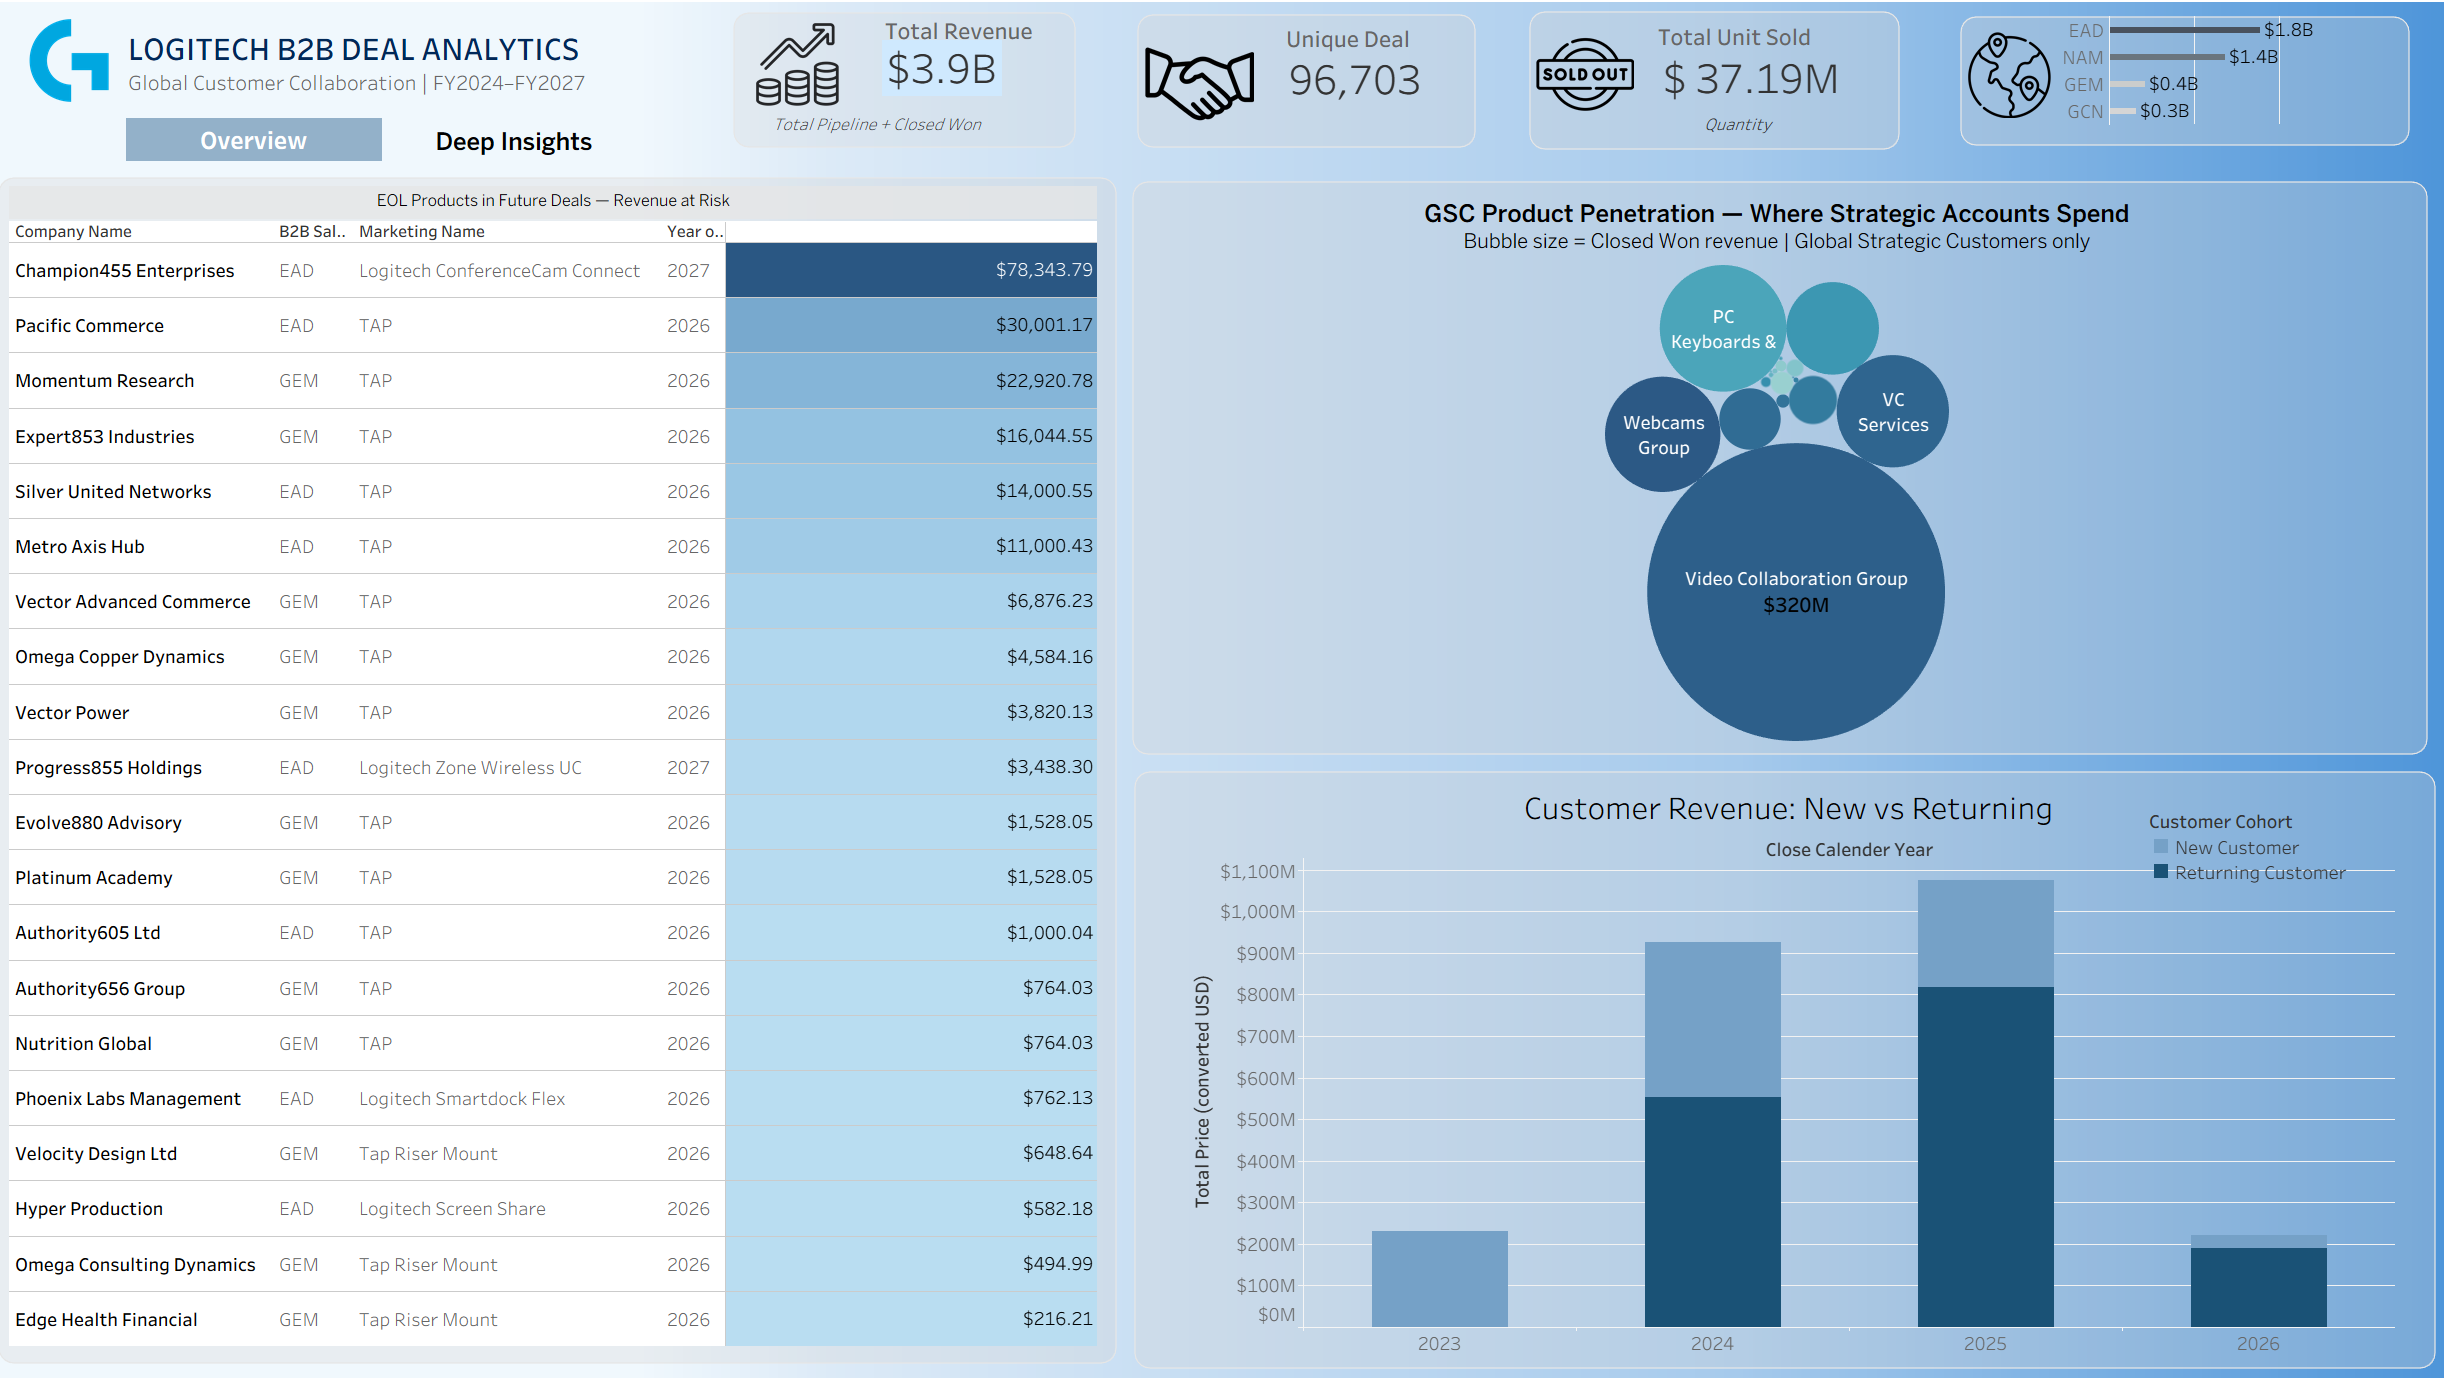

The page's visual inventory and layout, read from the dashboard file:
{"tool":"tableau","page":{"name":"Executive Overview","canvas":[1000,1000],"units":"permille","ordinal":1},"visuals":[{"type":"image","box":[3.1,5.7,993.7,988.5]},{"type":"worksheet","title":"Sheet 6 (7)","mark":"Automatic","box":[621.7,7.6,148.1,111.7]},{"type":"image","param":"C:/Users/Vishva/Downloads/Presentation1.png","box":[1,8.6,997.6,986.3]},{"type":"worksheet","title":"Sheet 6 (6)","mark":"Automatic","box":[468,10.1,134.8,108.3]},{"type":"text","box":[70.7,10.9,339.4,84]},{"type":"worksheet","title":"Sheet 6 (8)","mark":"Automatic","box":[786.4,11.8,179.4,105]},{"type":"worksheet","title":"Sheet 6 (5)","mark":"Automatic","box":[311.3,15.1,136.7,100.8]},{"type":"text","box":[373.5,16,74,26]},{"type":"text","box":[679.2,19.3,95.9,25.2]},{"type":"worksheet","title":"Top Region","mark":"Bar","rows":["B2B Sales Region"],"cols":["Total Price (converted USD)"],"box":[814.9,19.3,154.7,96.6]},{"type":"image","param":"C:/Users/Vishva/Downloads/logitech-gaming-2-logo-png-transparent.png","box":[32.8,21,32.8,76.4]},{"type":"text","box":[524,21,73.6,25.2]},{"type":"image","param":"C:/Users/Vishva/Downloads/files/profit.png","box":[319.4,21.8,40.3,63]},{"type":"image","param":"C:/Users/Vishva/Downloads/files/out-of-stock.png","box":[627.9,25.2,38.4,76.4]},{"type":"image","param":"C:/Users/Vishva/Downloads/files/handshake.png","box":[473.2,26,45.1,78.1]},{"type":"image","param":"C:/Users/Vishva/Downloads/files/countries.png","box":[790.7,31.1,40.8,61.3]},{"type":"worksheet","title":"KPI Revenue","mark":"Text","box":[373.5,36.1,76.9,52.1]},{"type":"worksheet","title":"Total Units Sold","mark":"Text","box":[670.6,40.3,97.8,54.6]},{"type":"worksheet","title":"Unique Deals","mark":"Text","box":[525.9,44.5,77.8,62.1]},{"type":"text","box":[698.6,83.1,47.5,25.2]},{"type":"text","box":[73.6,84.8,81.2,35.3]},{"type":"text","box":[332.7,85.6,114.9,25.2]},{"type":"dashboard-object","box":[148.6,87.3,100.1,31.1]},{"type":"worksheet","title":"EOL Risk","mark":"Square","rows":["Company Name","B2B Sales Region","Marketing Name","Close Date"],"box":[25.4,101.2,947.4,880.8]},{"type":"worksheet","title":"Sheet 6","mark":"Automatic","box":[22.8,119.2,440,440]},{"type":"worksheet","title":"Sheet 6 (2)","mark":"Automatic","box":[456.6,122.6,518.8,439.1]},{"type":"worksheet","title":"Top 10 Global Strategic Accounts by USD spend","mark":"Line","rows":["Company Name"],"box":[32.3,123.5,419.8,397.1]},{"type":"worksheet","title":"Top performing product group","mark":"Line","rows":["Product Group Name"],"box":[468,137.2,497.9,381.7]},{"type":"worksheet","title":"Sheet 6 (3)","mark":"Automatic","box":[21.4,549.1,442.3,454.2]},{"type":"worksheet","title":"Sheet 6 (4)","mark":"Automatic","box":[457.5,552.5,521.1,450]},{"type":"worksheet","title":"Top Deals by Year","mark":"Square","rows":["Company Name"],"cols":["Close Calender Year"],"box":[32.8,564.2,421.4,413.1]},{"type":"worksheet","title":"GSC Trend Over Time","mark":"Line","rows":["Total Price (converted USD)"],"cols":["Fiscal Period"],"box":[477,564.2,486.5,420.7]}]}

Visuals, with their boxes on the dashboard's canvas, which has no fixed pixel size, in thousandths of its width and height (x1, y1, x2, y2). These are canvas units, not pixel positions in the 2444x1378 screenshot, which may show the page scaled, cropped or inside an application window:
image: [3, 6, 997, 994]
"Sheet 6 (7)" worksheet: [622, 8, 770, 119]
image: [1, 9, 999, 995]
"Sheet 6 (6)" worksheet: [468, 10, 603, 118]
text: [71, 11, 410, 95]
"Sheet 6 (8)" worksheet: [786, 12, 966, 117]
"Sheet 6 (5)" worksheet: [311, 15, 448, 116]
text: [374, 16, 448, 42]
text: [679, 19, 775, 44]
"Top Region" worksheet (Bar marks): [815, 19, 970, 116]
image: [33, 21, 66, 97]
text: [524, 21, 598, 46]
image: [319, 22, 360, 85]
image: [628, 25, 666, 102]
image: [473, 26, 518, 104]
image: [791, 31, 832, 92]
"KPI Revenue" worksheet (Text marks): [374, 36, 450, 88]
"Total Units Sold" worksheet (Text marks): [671, 40, 768, 95]
"Unique Deals" worksheet (Text marks): [526, 44, 604, 107]
text: [699, 83, 746, 108]
text: [74, 85, 155, 120]
text: [333, 86, 448, 111]
dashboard-object: [149, 87, 249, 118]
"EOL Risk" worksheet (Square marks): [25, 101, 973, 982]
"Sheet 6" worksheet: [23, 119, 463, 559]
"Sheet 6 (2)" worksheet: [457, 123, 975, 562]
"Top 10 Global Strategic Accounts by USD spend" worksheet (Line marks): [32, 124, 452, 521]
"Top performing product group" worksheet (Line marks): [468, 137, 966, 519]
"Sheet 6 (3)" worksheet: [21, 549, 464, 1003]
"Sheet 6 (4)" worksheet: [458, 552, 979, 1002]
"Top Deals by Year" worksheet (Square marks): [33, 564, 454, 977]
"GSC Trend Over Time" worksheet (Line marks): [477, 564, 964, 985]
